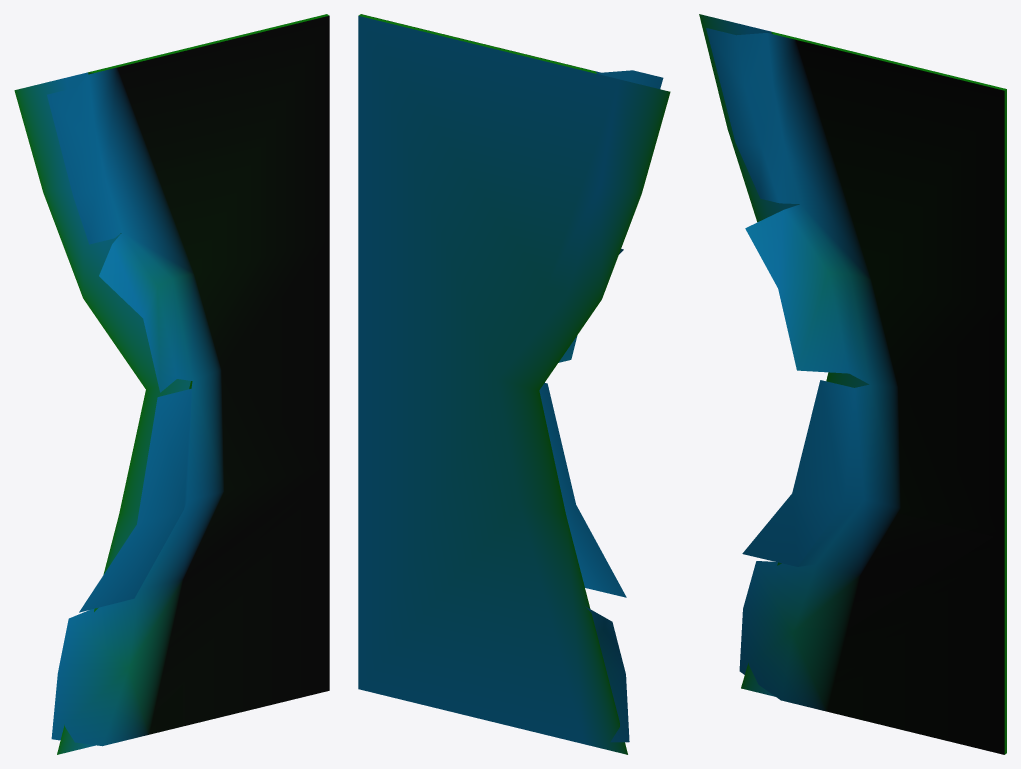
File: DBK_Drywall_Side_D_Single_Mirror.fbx
The picture shows the model from 3 angles, left to right: view 1: azimuth 30°, elevation 25°; view 2: azimuth 150°, elevation 25°; view 3: azimuth 330°, elevation 25°; orthographic projection.
Visible parts, largest first — view 1: DBK_Drywall_Side_D_Single_Mirror; view 2: DBK_Drywall_Side_D_Single_Mirror; view 3: DBK_Drywall_Side_D_Single_Mirror.
Boxes of the visible parts, bbox=[...] form: DBK_Drywall_Side_D_Single_Mirror: bbox=[14, 14, 329, 754]; DBK_Drywall_Side_D_Single_Mirror: bbox=[358, 14, 670, 754]; DBK_Drywall_Side_D_Single_Mirror: bbox=[699, 14, 1006, 754].
Size of what is drawn, in the model's own units: 145 by 300 by 21.2.
